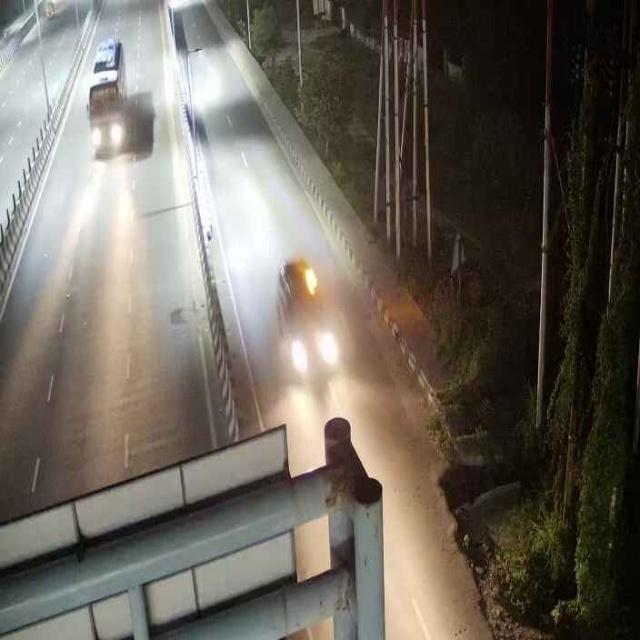car: (270, 253, 340, 376)
